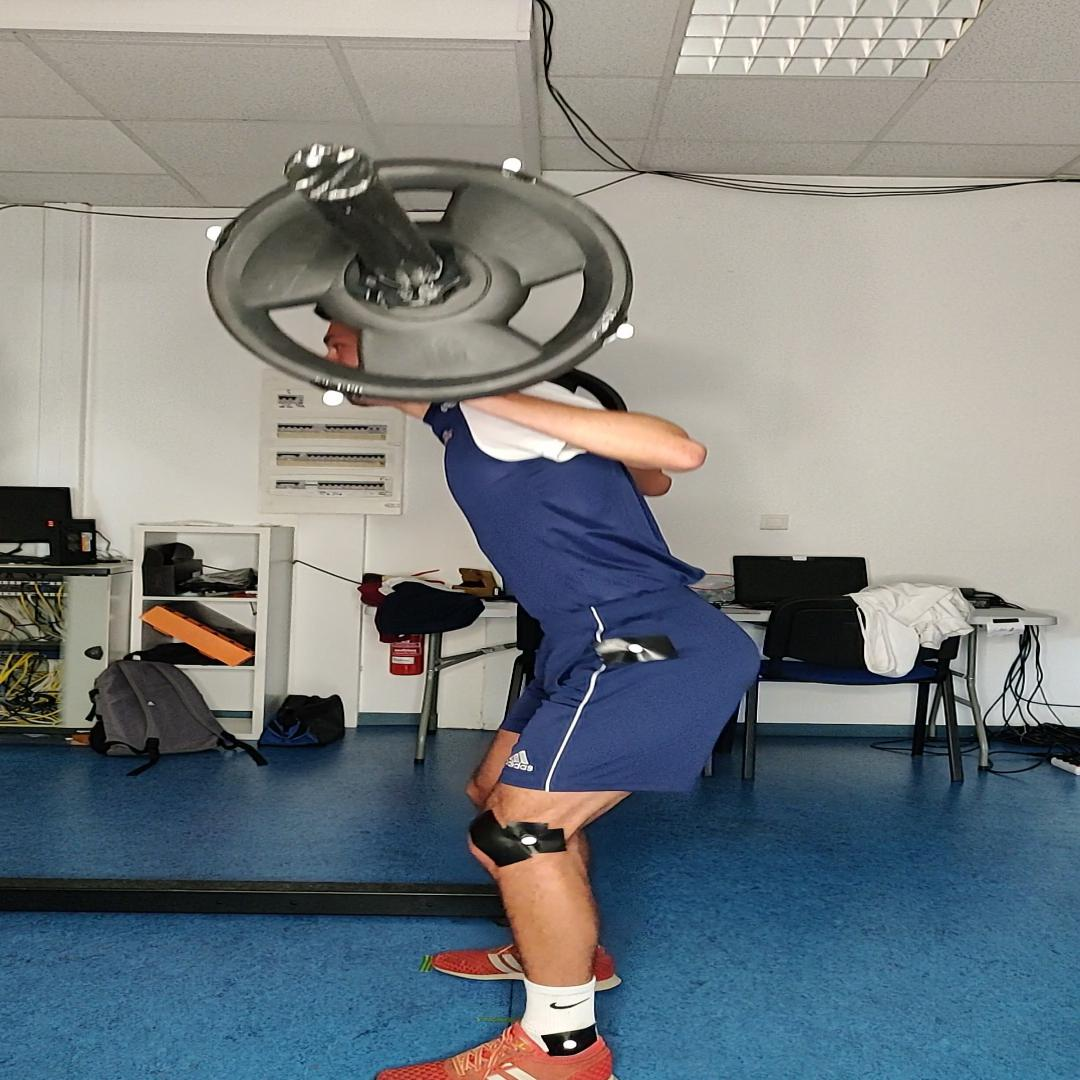Bar: (284, 141, 376, 201)
Barbell: (207, 158, 635, 404)
